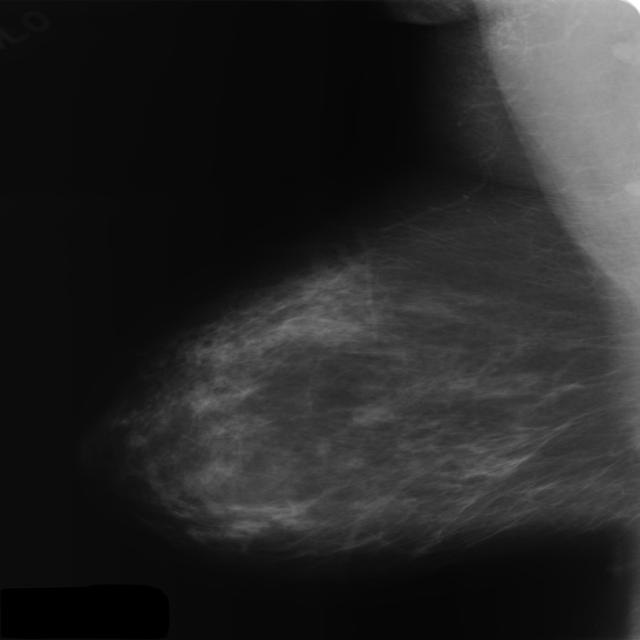tumour: (349, 402, 391, 426)
